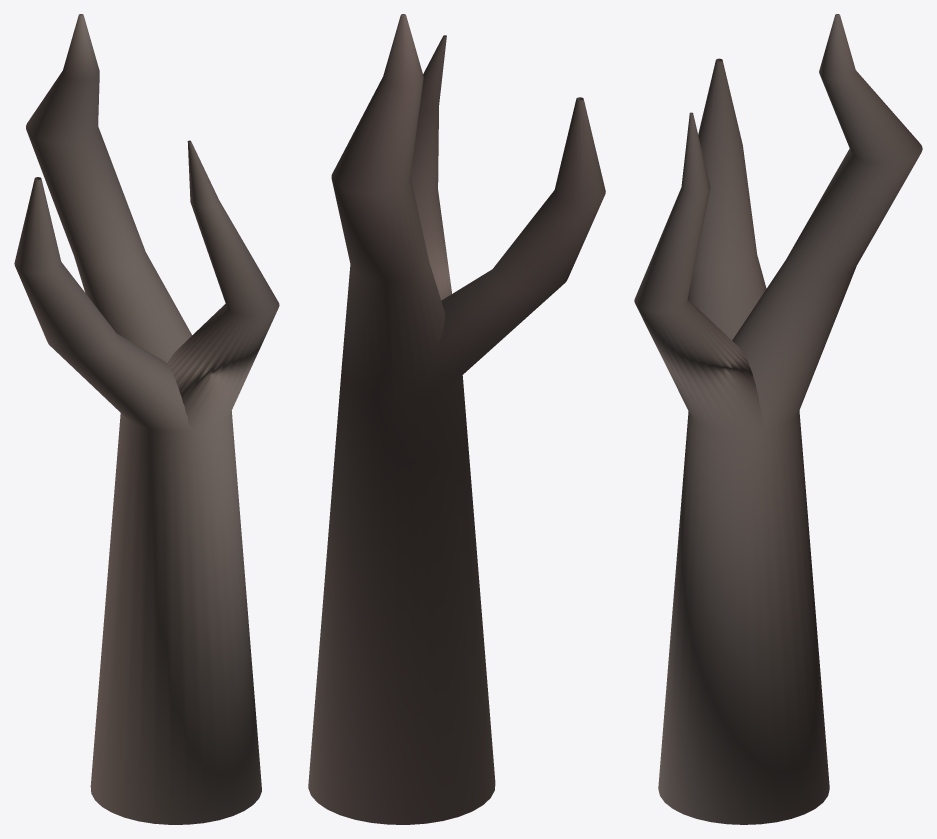
File: tree.obj
3 views of the same model, side by side, from view 1: azimuth 30°, elevation 25°; view 2: azimuth 150°, elevation 25°; view 3: azimuth 270°, elevation 25° (orthographic). The views are drawn at different scales.
Parts seen in each view (by area): view 1: Circle; view 2: Circle; view 3: Circle.
Part boxes in pixels (x1,y1,x2,y2): Circle: [14, 14, 279, 824]; Circle: [308, 14, 605, 824]; Circle: [634, 14, 922, 824].
Size of the model in its own units: 3.3 by 9.65 by 3.36.
1 material, 1 textured.
